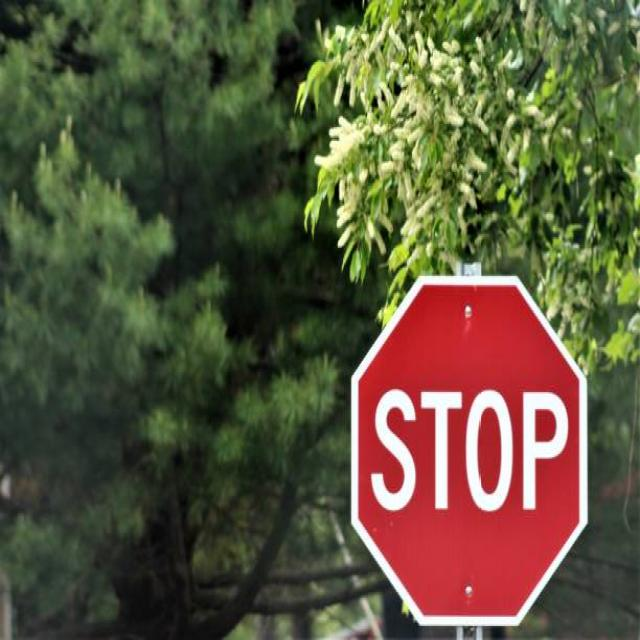stop: (344, 271, 592, 626)
